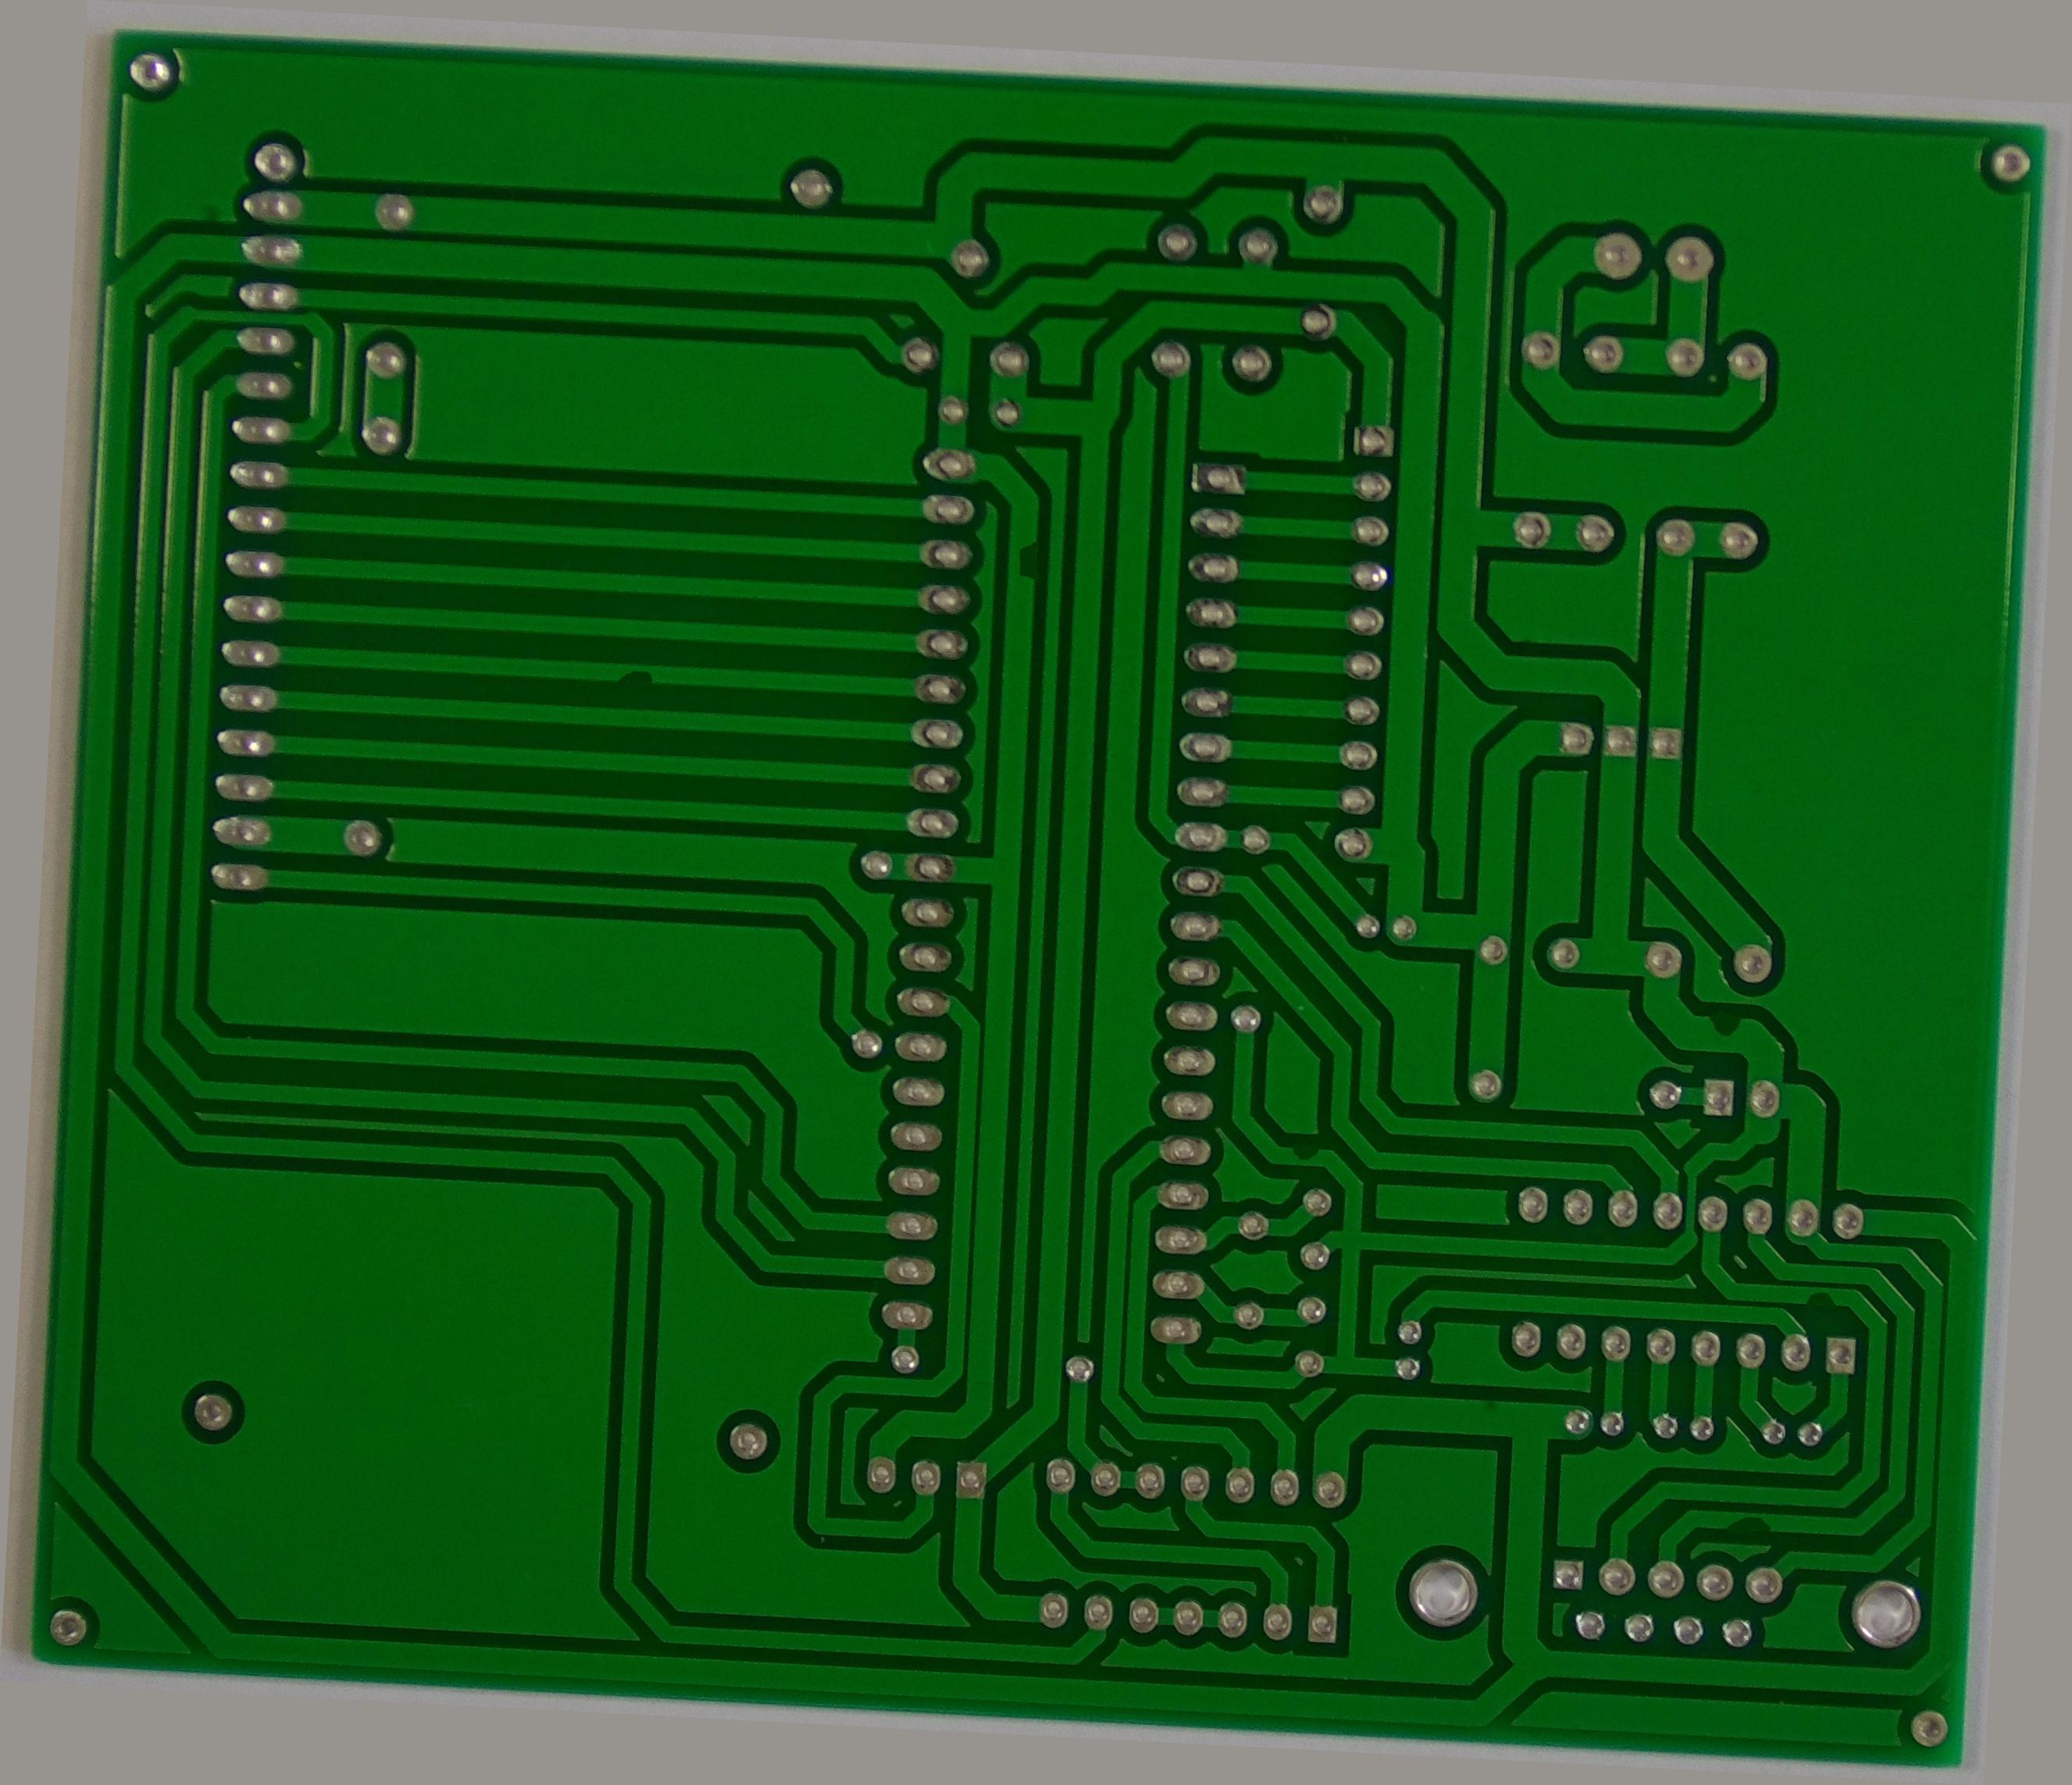mouse_bite: (1778, 1498, 1845, 1538), (990, 511, 1027, 576), (578, 664, 641, 701), (1306, 1137, 1357, 1181), (1848, 1260, 1899, 1299)
